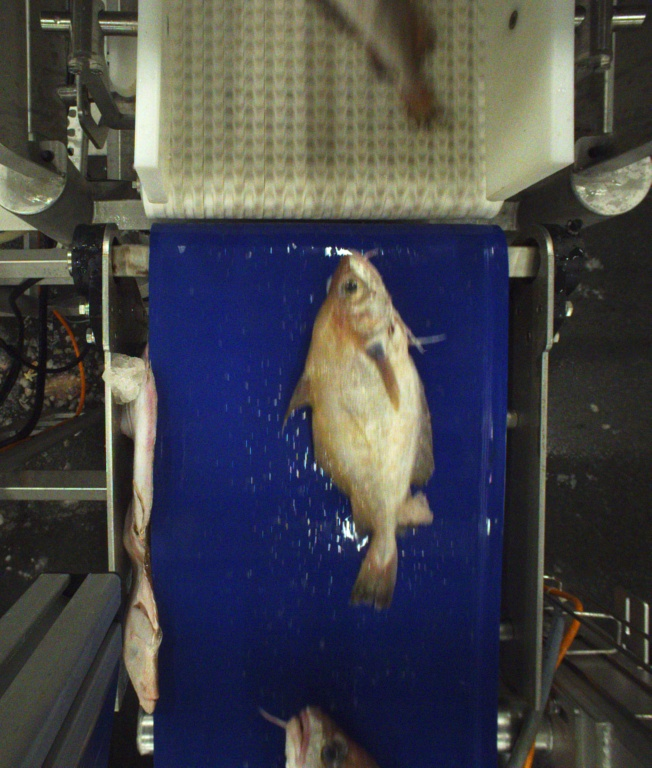BIB: (258, 703, 361, 768)
